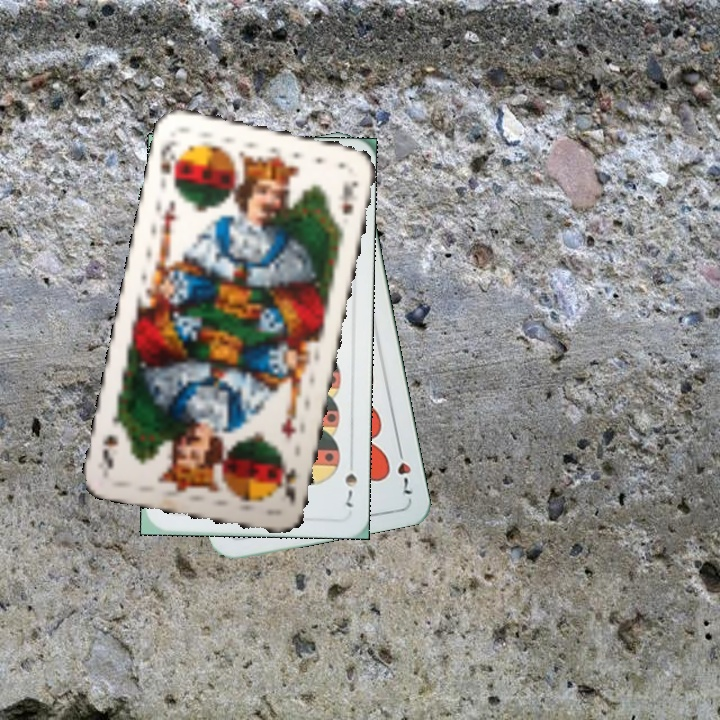H7: (393, 441, 414, 500)
S7: (340, 453, 359, 510)
SK: (155, 137, 183, 190), (276, 459, 300, 509)
